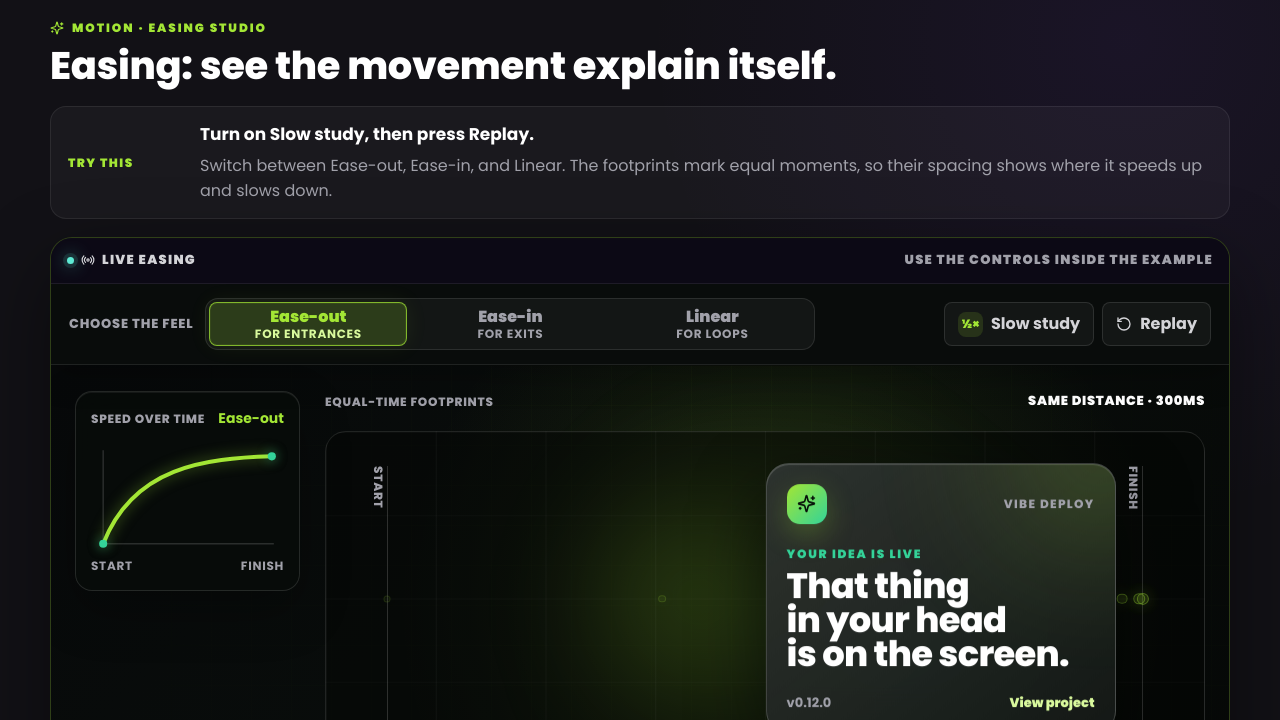
Test: Easing glossary studio › uses equal-time footprints and a live curve to explain the selected easing
Expected: the picture named "Ease-out speed curve" is shown, [91,438,284,556]
Click the button with aria-label "Ease-in: For exits" at (510, 324), box [411,302,609,346]
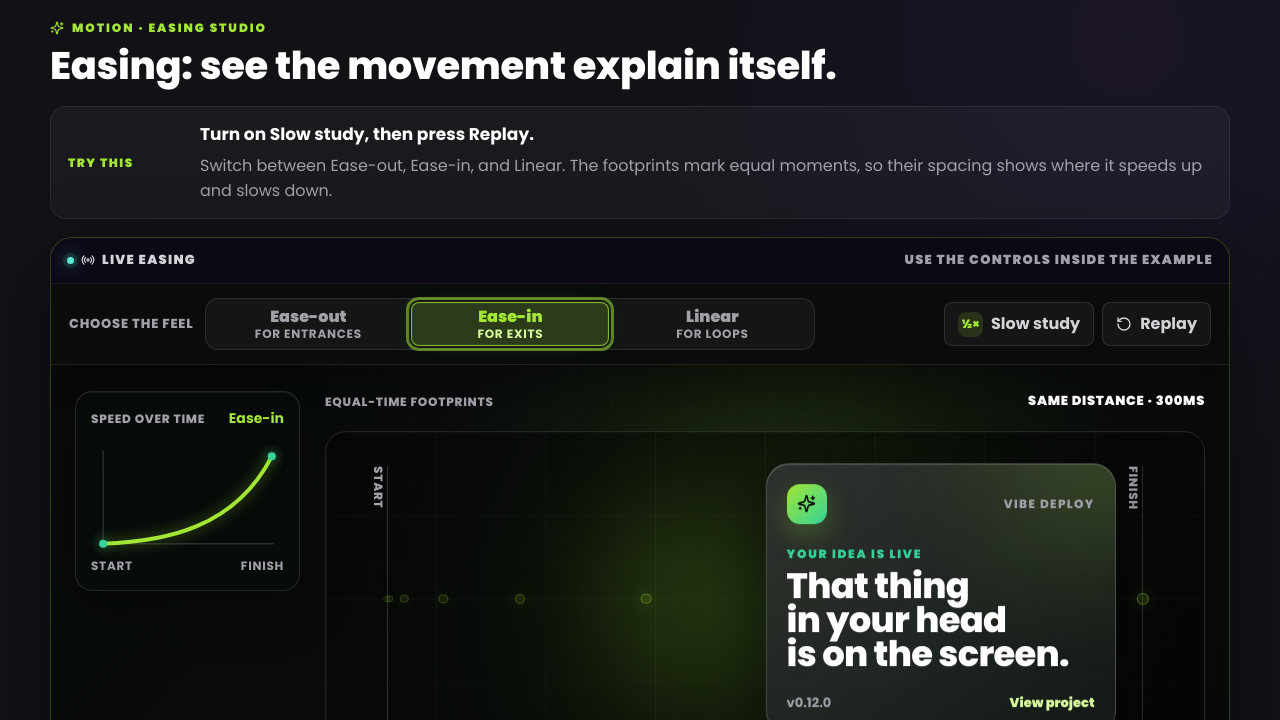
Expected: the button with aria-label "Ease-out: For entrances" is shown, [209,302,407,346]
Expected: the picture named "Ease-in speed curve" is shown, [91,438,284,556]
